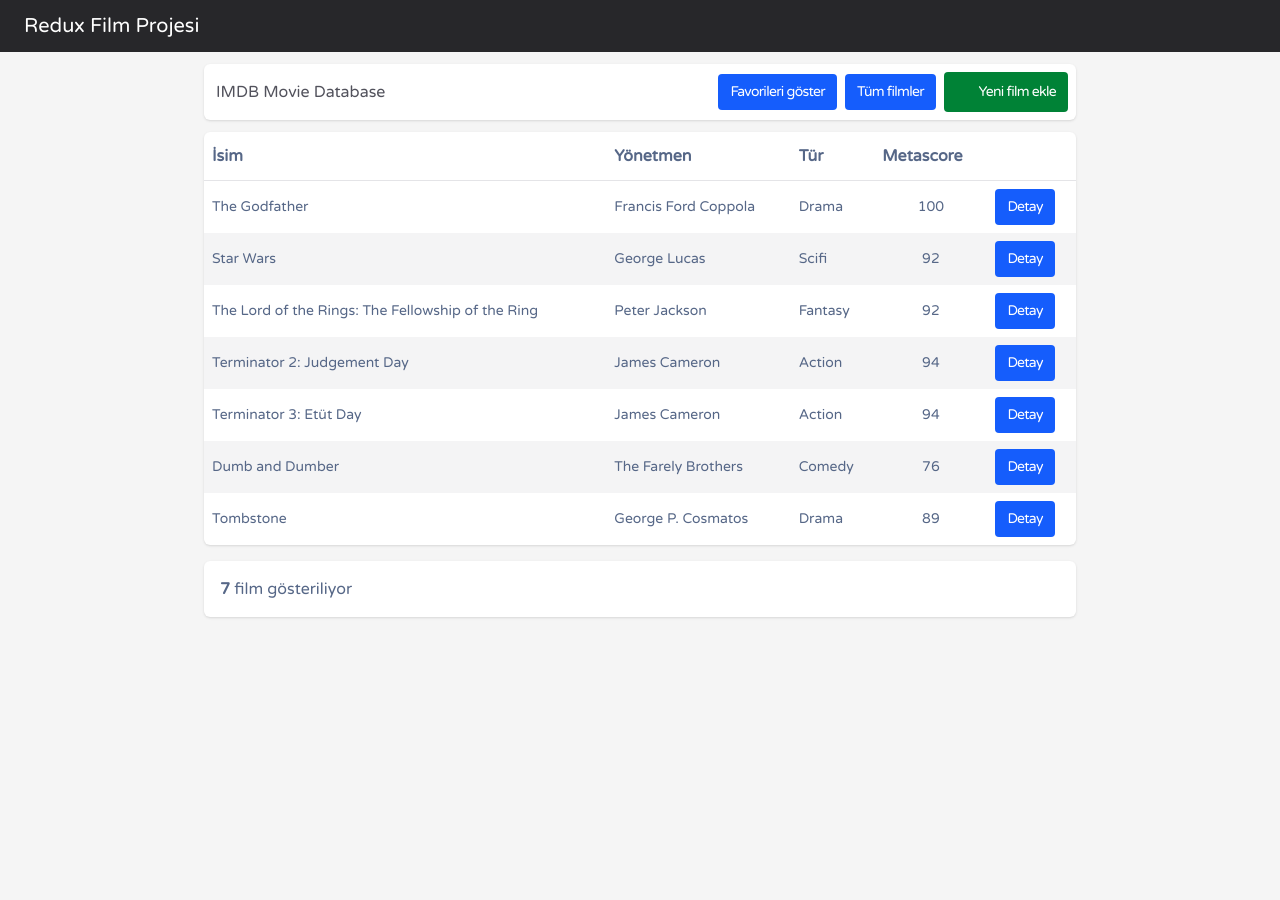
Test: Detay butonu tıklandığında ilgili film detayları gösteriliyor mu?
This screenshot has width=1280, height=900.
Click the link "Detay" in the row of "The Godfather": [1025, 207] box [996,189,1055,225]
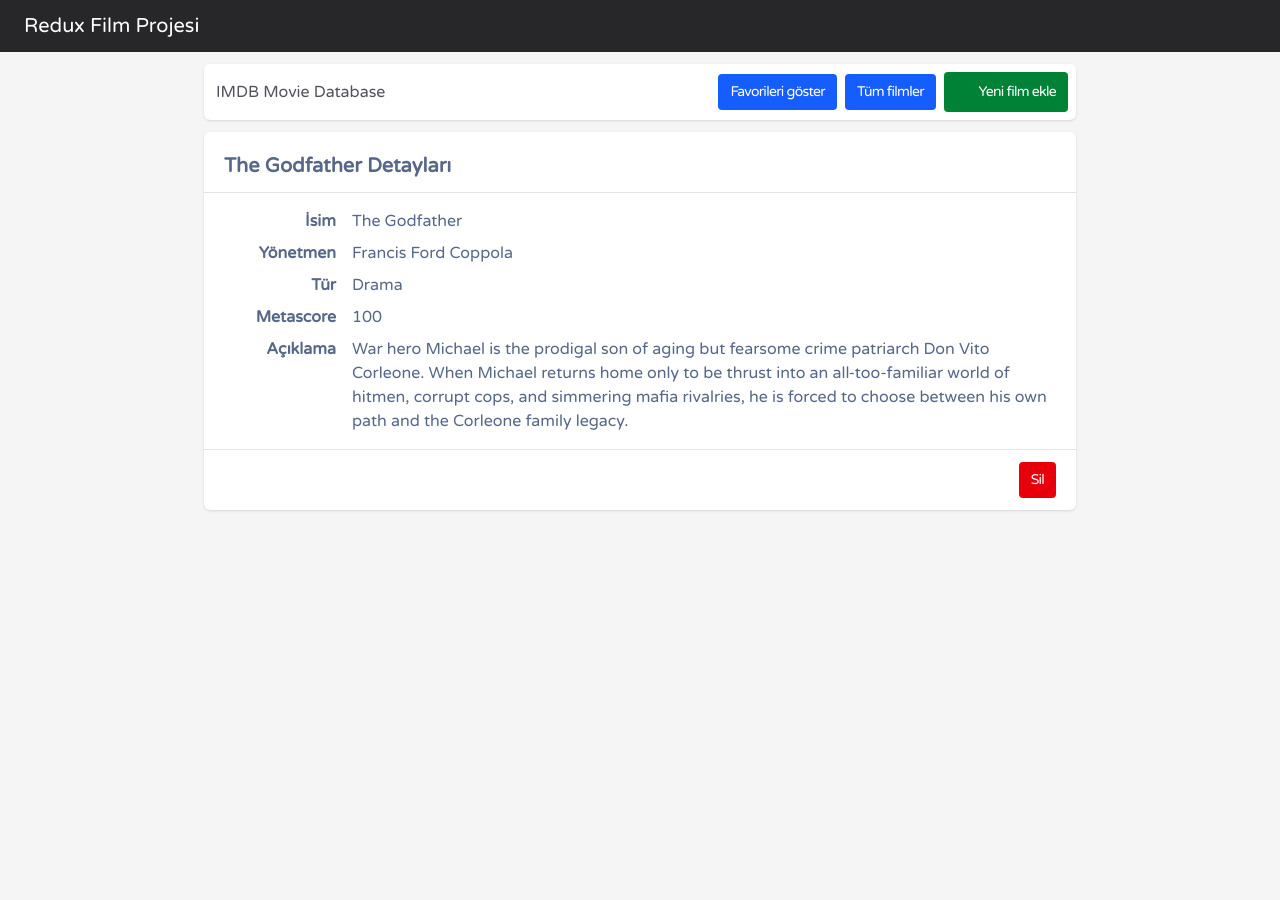
Expected: the heading "The Godfather Detayları" is shown, [224,154,451,178]
